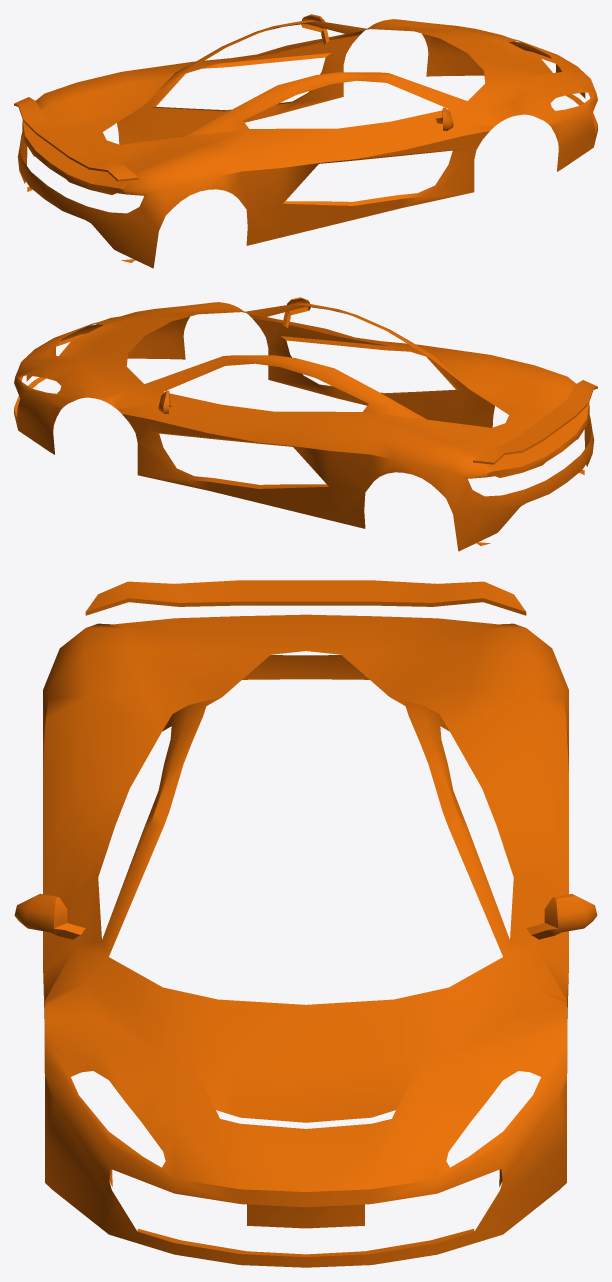
File: player_car.fbx
3 views of the same model, one above another, from view 1: azimuth 30°, elevation 25°; view 2: azimuth 150°, elevation 25°; view 3: azimuth 270°, elevation 25° (orthographic). The views are drawn at different scales.
Parts seen in each view (by area): view 1: body; view 2: body; view 3: body.
Boxes of the visible parts, x1,y1,x2,y2 form: body: (14,14,597,268); body: (14,297,597,551); body: (14,580,597,1267).
Size of the model in its own units: 443 by 95.32 by 210.
